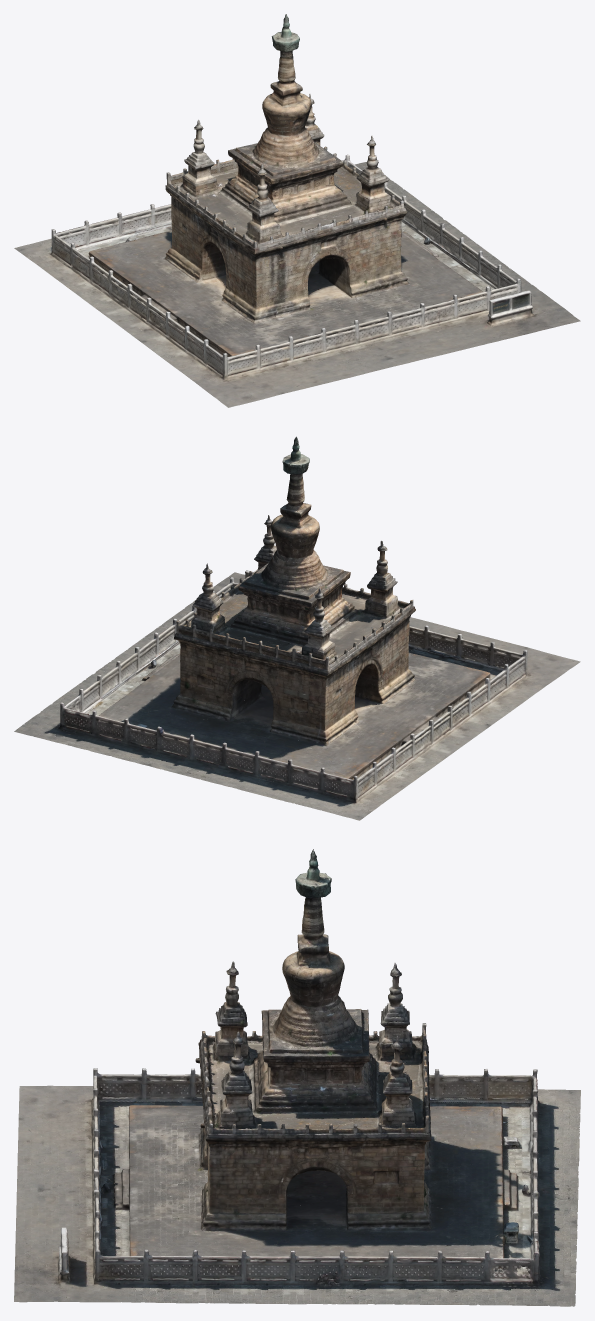
Rendered from miaozhan-vajra-pagoda.glb.
3 renders of one model, top to bottom at view 1: azimuth 30°, elevation 25°; view 2: azimuth 150°, elevation 25°; view 3: azimuth 270°, elevation 25°, orthographic. The views are drawn at different scales.
Visible parts, largest first — view 1: miaozhan-vajra-pagoda; view 2: miaozhan-vajra-pagoda; view 3: miaozhan-vajra-pagoda.
Part boxes in pixels (x1,y1,x2,y2): miaozhan-vajra-pagoda: [14, 14, 580, 407]; miaozhan-vajra-pagoda: [14, 436, 580, 820]; miaozhan-vajra-pagoda: [14, 849, 580, 1306].
Bounding box in the file's own units: 16.56 × 12.03 × 17.85.
Materials: 1 (1 with a texture image).
